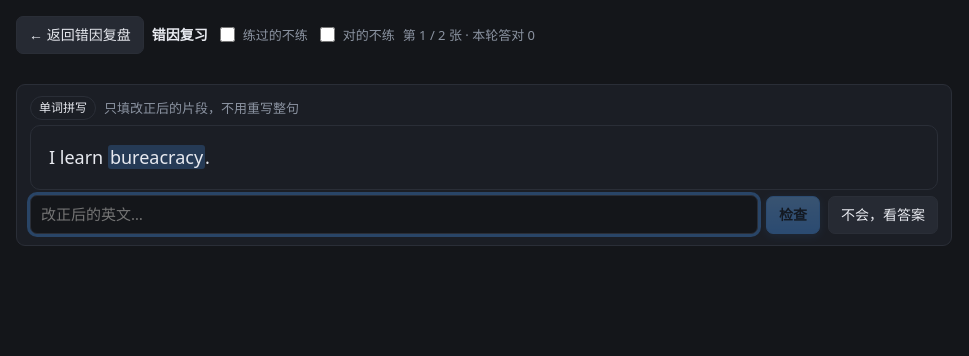
Test: GoldenErrorReview › 结果出来后按 Enter 就是下一个；看完最后一张回车看结果
In the field named "错因答案": (394, 215) [30,195,758,234], type "bureaucracy"
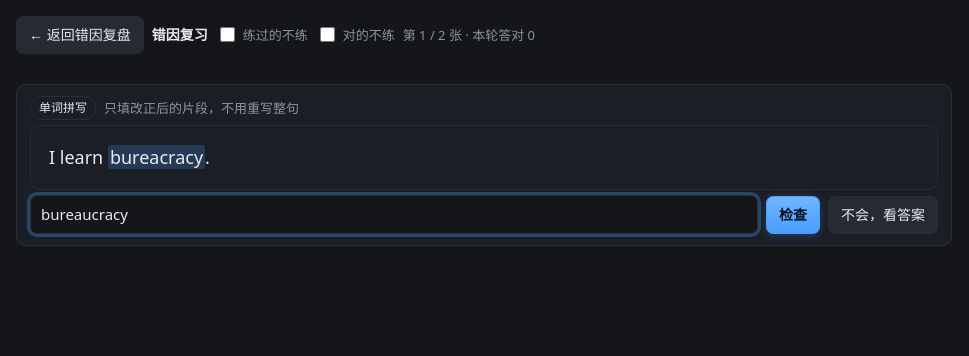
Click the button "检查": (793, 215) [766,196,820,234]
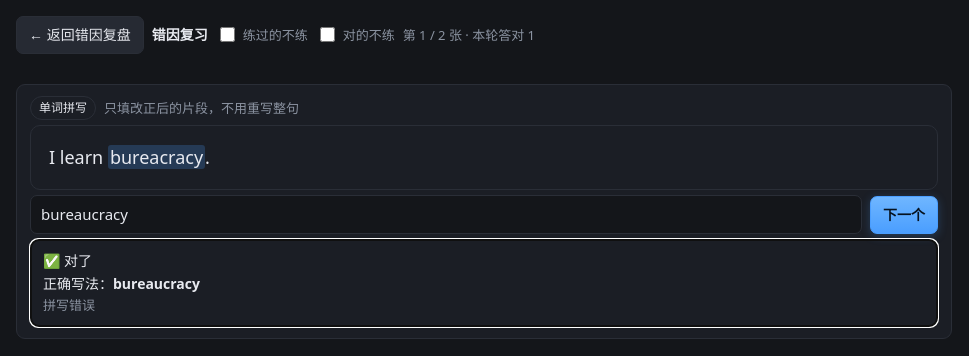
Press Enter in the element showing "✅ 对了 正确写法：bureaucracy 拼写错误", box [30,239,938,327]
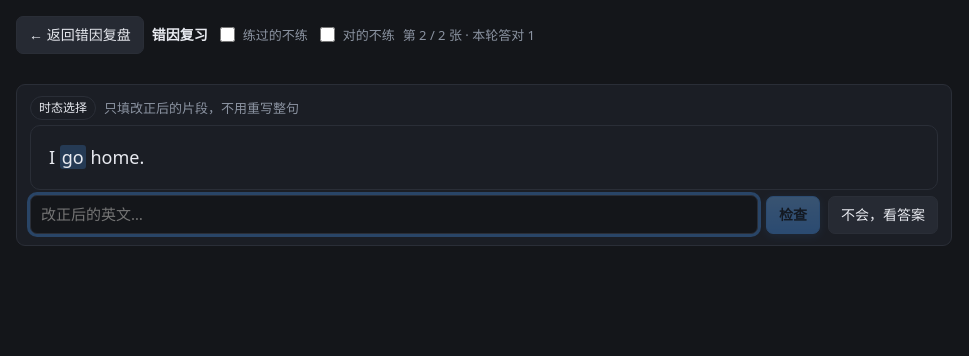
Check: the text "第 2 / 2 张 · 本轮答对 1" is shown, box [403,25,535,45]
In the field named "错因答案": (394, 215) [30,195,758,234], type "went"
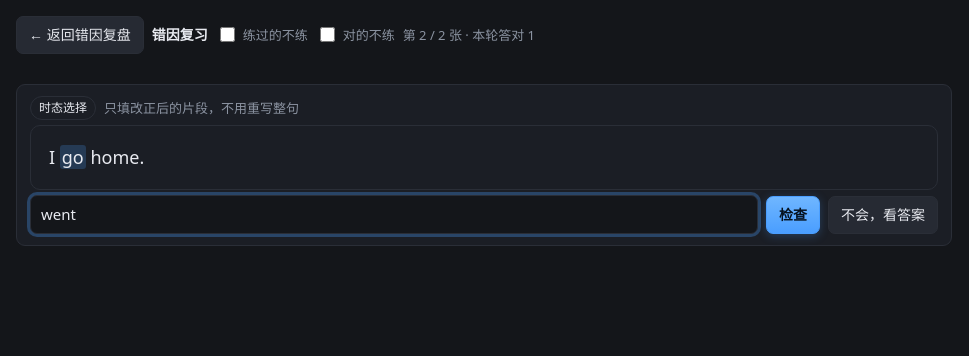
Click the button "检查": (793, 215) [766,196,820,234]
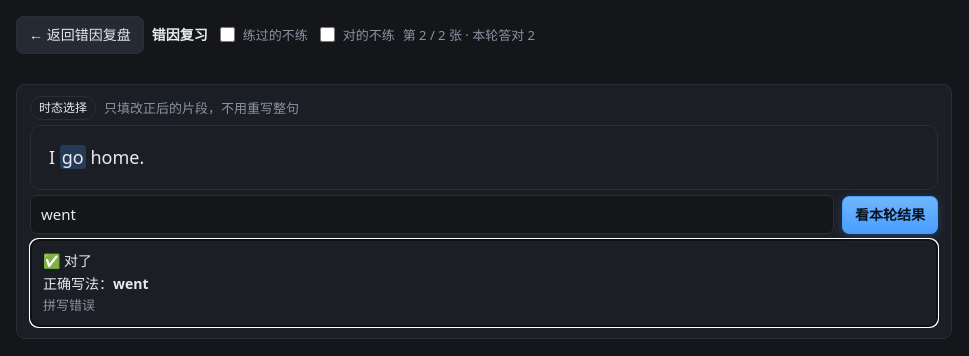
Press Enter in the element showing "✅ 对了 正确写法：went 拼写错误", box [30,239,938,327]
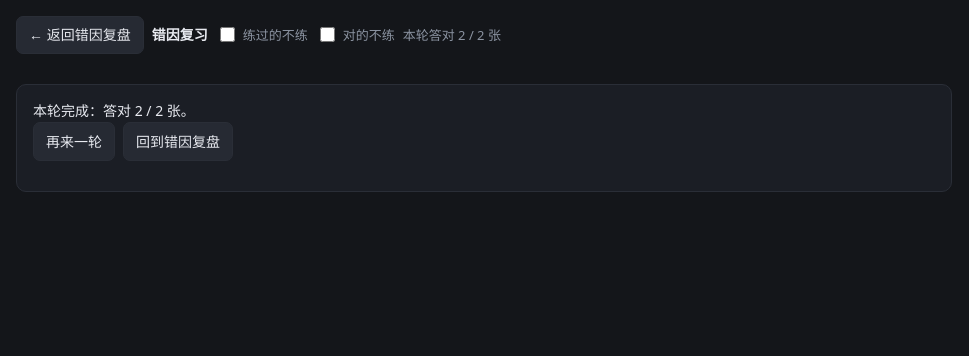
Check: the text "本轮完成：答对 2 / 2 张。 再来一轮 回到错因复盘" is shown, box [16,84,952,192]
